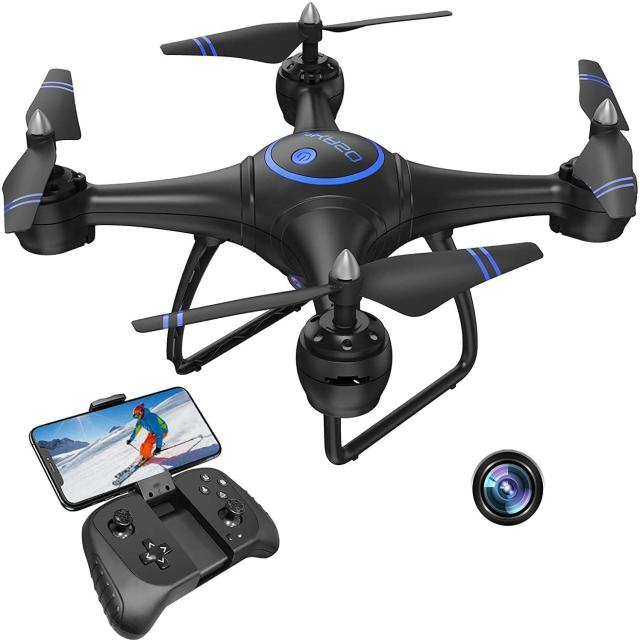drone: (0, 7, 640, 454)
